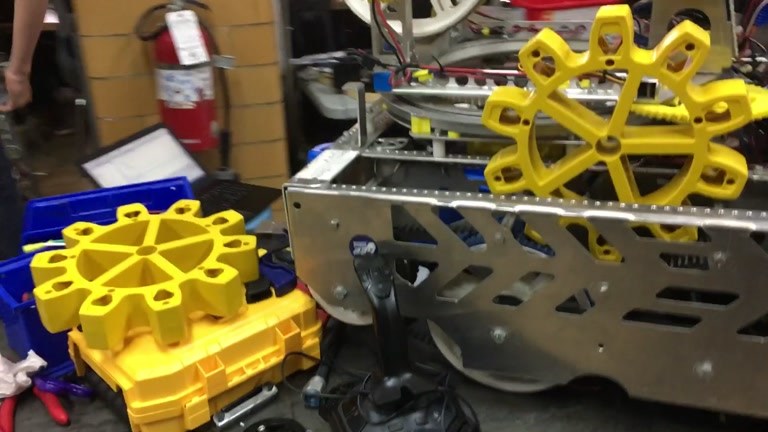gear: (481, 4, 752, 262), (29, 198, 259, 350)
